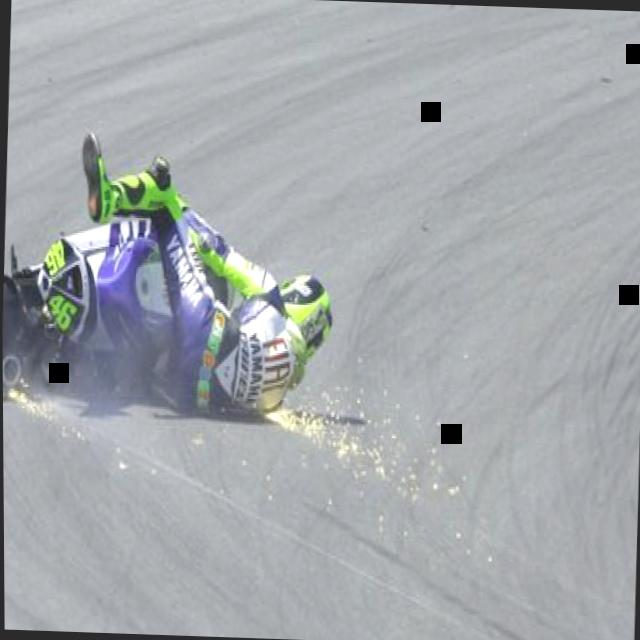Fall-Detected: (50, 123, 356, 434)
